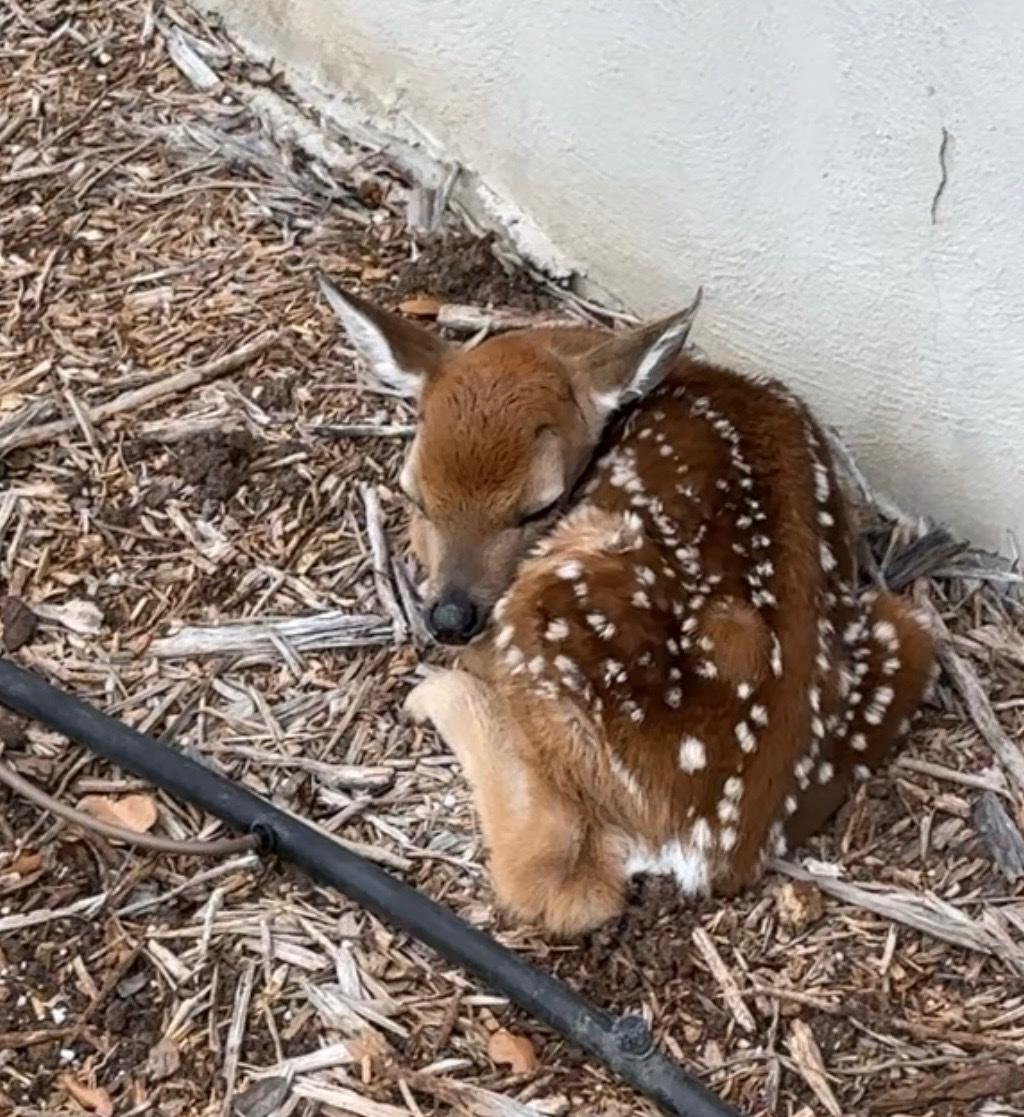Deer: (321, 278, 934, 936)
